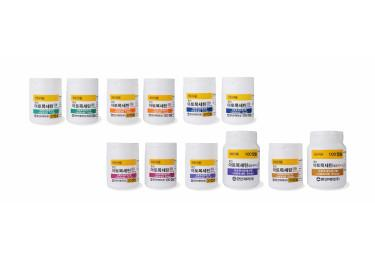PILL BOTTLE: (306, 130, 347, 189), (222, 130, 260, 188), (268, 142, 303, 189), (182, 76, 216, 124), (28, 77, 62, 124), (184, 142, 218, 189), (221, 76, 254, 124), (106, 142, 139, 189), (144, 142, 177, 189), (66, 77, 98, 124), (143, 77, 175, 124), (106, 78, 139, 123)
